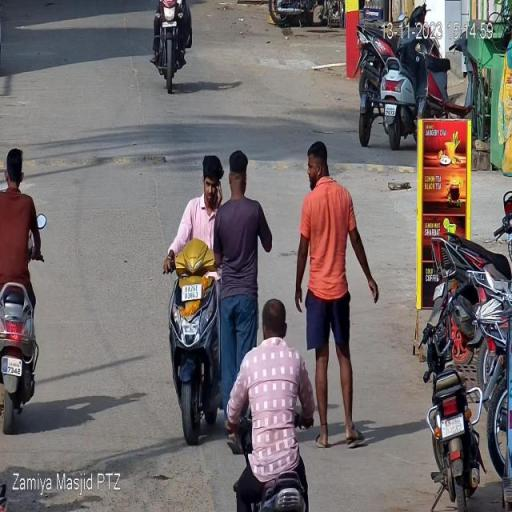using mobile: (210, 176, 224, 214)
